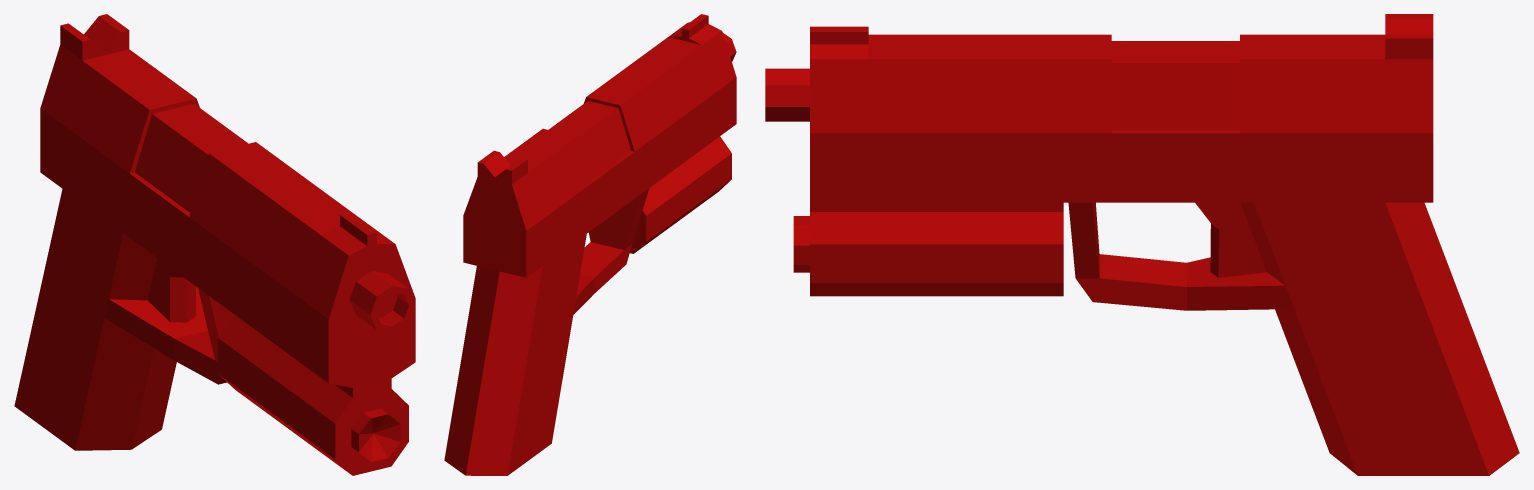
The model's file is m_gun.fbx.
3 renders of one model, left to right at view 1: azimuth 30°, elevation 25°; view 2: azimuth 150°, elevation 25°; view 3: azimuth 270°, elevation 25°, orthographic. The views are drawn at different scales.
Parts seen in each view (by area): view 1: sm_gun; view 2: sm_gun; view 3: sm_gun.
Boxes of the visible parts, left/top/right/bottom form: sm_gun: left=14, top=14, right=415, bottom=475; sm_gun: left=444, top=14, right=736, bottom=475; sm_gun: left=765, top=14, right=1519, bottom=475.
Bounding box in the file's own units: 6.14 × 26.72 × 42.81.
